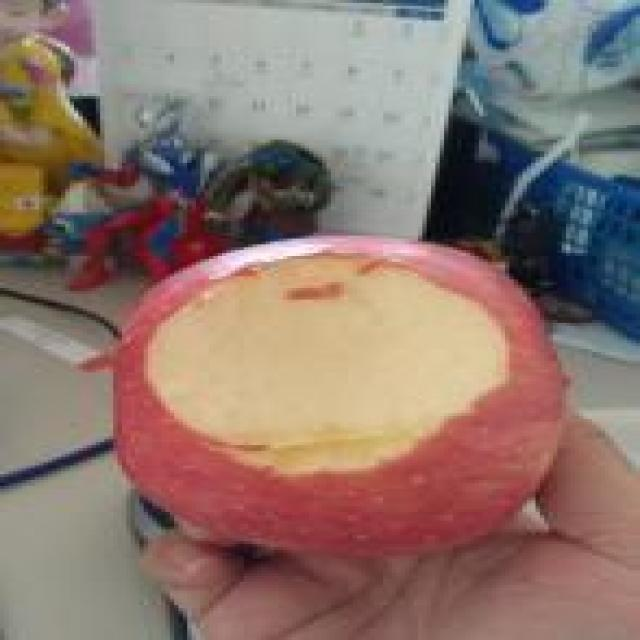Apple: (103, 228, 572, 565)
